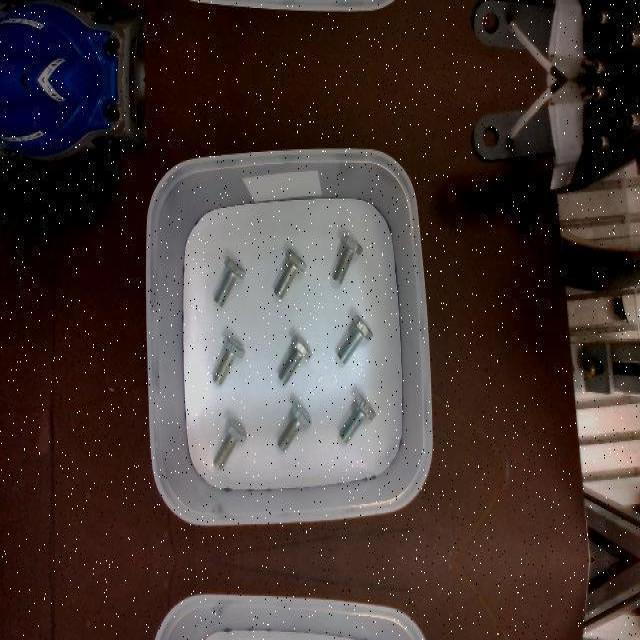screw: (277, 401, 312, 451), (340, 394, 376, 442), (338, 314, 372, 364), (274, 248, 307, 298), (214, 256, 246, 306), (213, 335, 245, 385), (214, 417, 246, 467), (279, 335, 312, 383), (333, 233, 363, 283)
